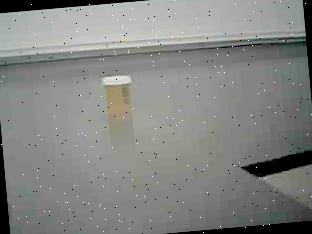Bottle B: (96, 68, 142, 126)
